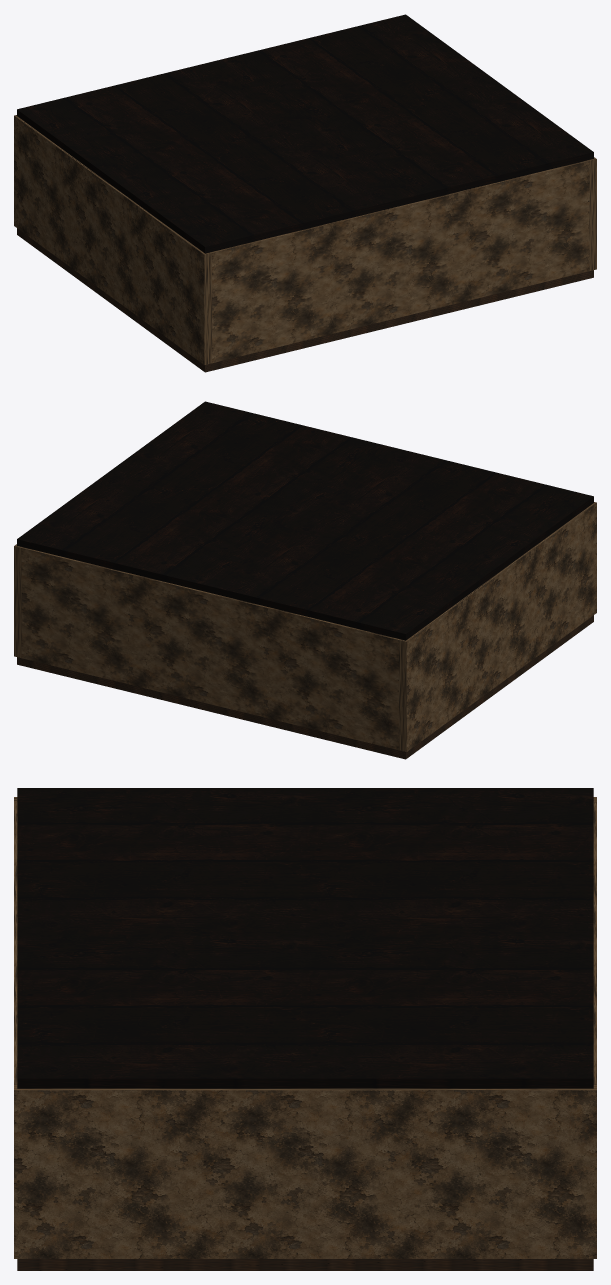
The model's file is enclosed-C-v8.glb.
3 views of the same model, one above another, from view 1: azimuth 30°, elevation 25°; view 2: azimuth 150°, elevation 25°; view 3: azimuth 270°, elevation 25° (orthographic). The views are drawn at different scales.
Visible parts, largest first — view 1: 密閉調查區_C; view 2: 密閉調查區_C; view 3: 密閉調查區_C.
Boxes of the visible parts, x1,y1,x2,y2 form: 密閉調查區_C: (14, 14, 596, 372); 密閉調查區_C: (14, 401, 596, 759); 密閉調查區_C: (14, 788, 596, 1270).
Size of the model in its own units: 12.48 by 3.81 by 10.48.
Materials: 32 (27 with a texture image).
